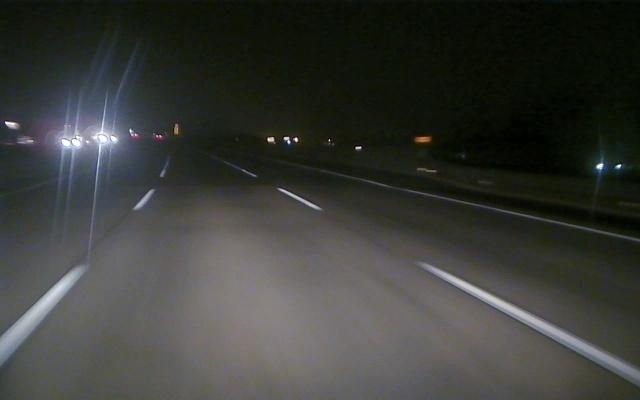lane: (276, 184, 638, 386), (2, 187, 156, 364), (334, 173, 637, 242)
